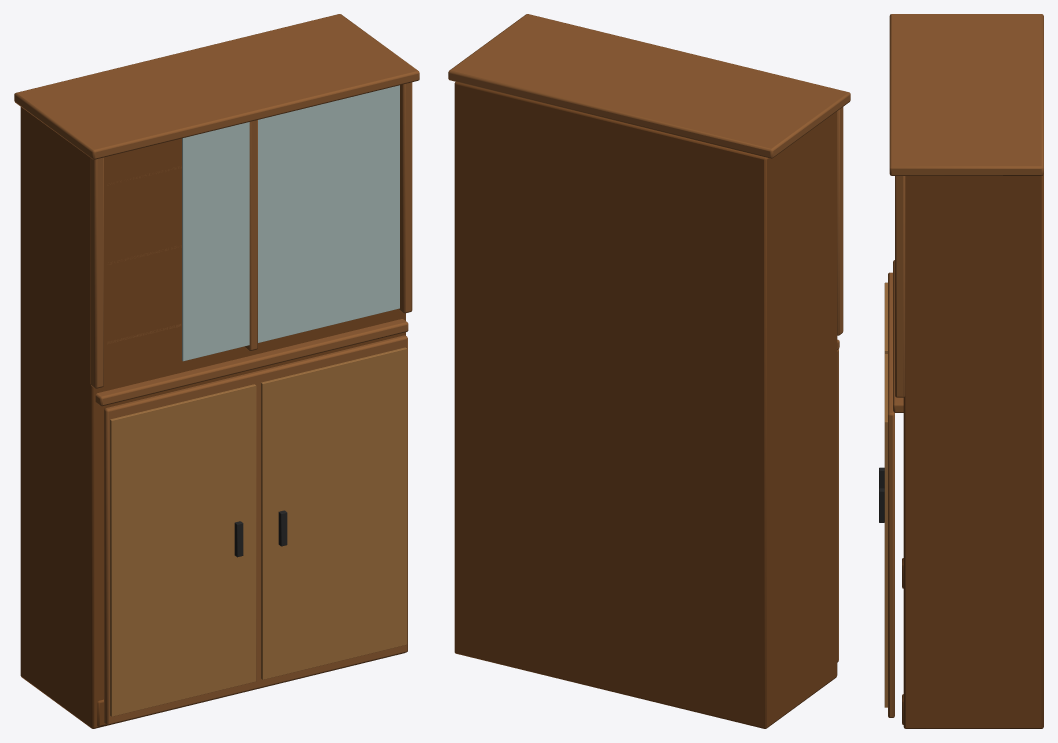
File: TuBuffet_ChenBat.glb
3 renders of one model, left to right at view 1: azimuth 30°, elevation 25°; view 2: azimuth 150°, elevation 25°; view 3: azimuth 270°, elevation 25°, orthographic. The views are drawn at different scales.
Parts seen in each view (by area): view 1: TuBuffet_ChenBat; view 2: TuBuffet_ChenBat; view 3: TuBuffet_ChenBat.
Part boxes in pixels (<box>): TuBuffet_ChenBat: <box>14,14,419,728</box>; TuBuffet_ChenBat: <box>448,14,850,728</box>; TuBuffet_ChenBat: <box>879,14,1043,728</box>.
Size of the model in its own units: 1.04 by 1.78 by 0.47.
